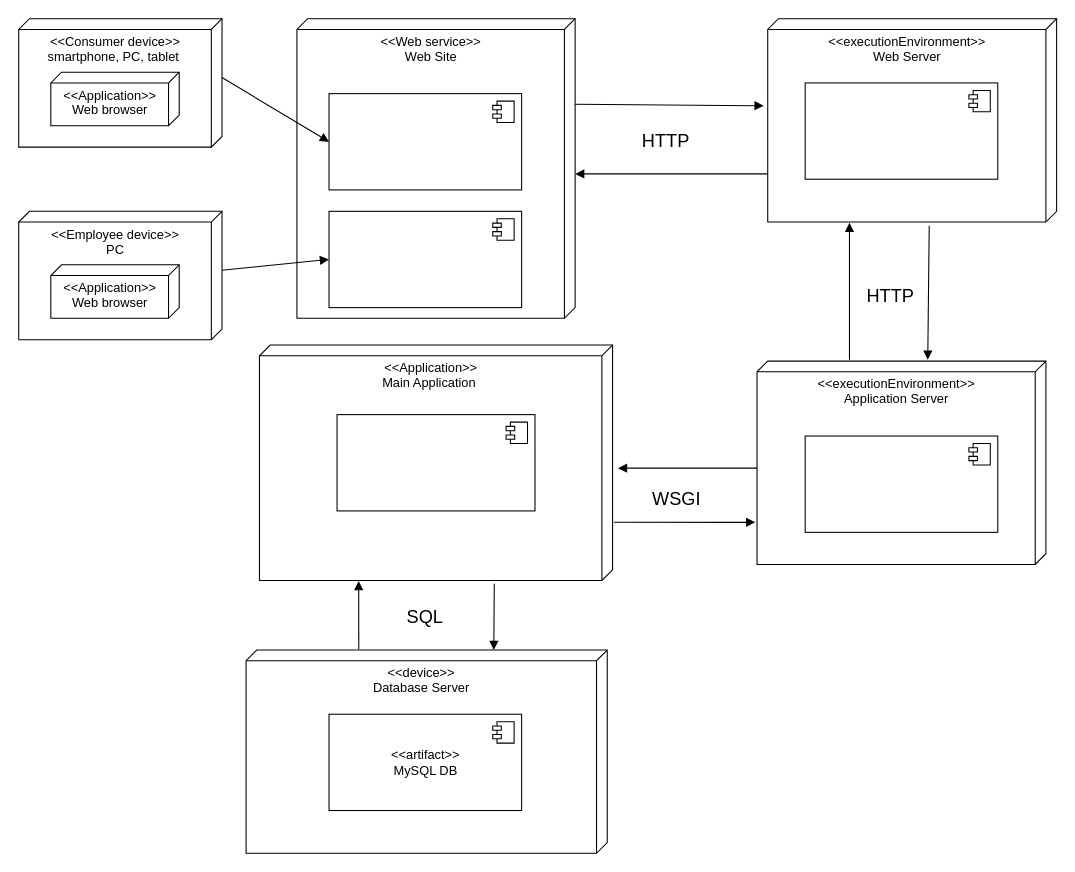
Some shapes in this 1075 by 872 pixel diagram are drawn without their labels. Here are the shapes that lost their labels. From the top down, the centre of each, then its label:
At point (425, 141): "«Interface» Relative Interface".
At point (901, 130): "NGINX".
At point (425, 259): "«Interface» Employee Interface".
At point (435, 462): "DJANGO".
At point (901, 483): "GUNICORN".
